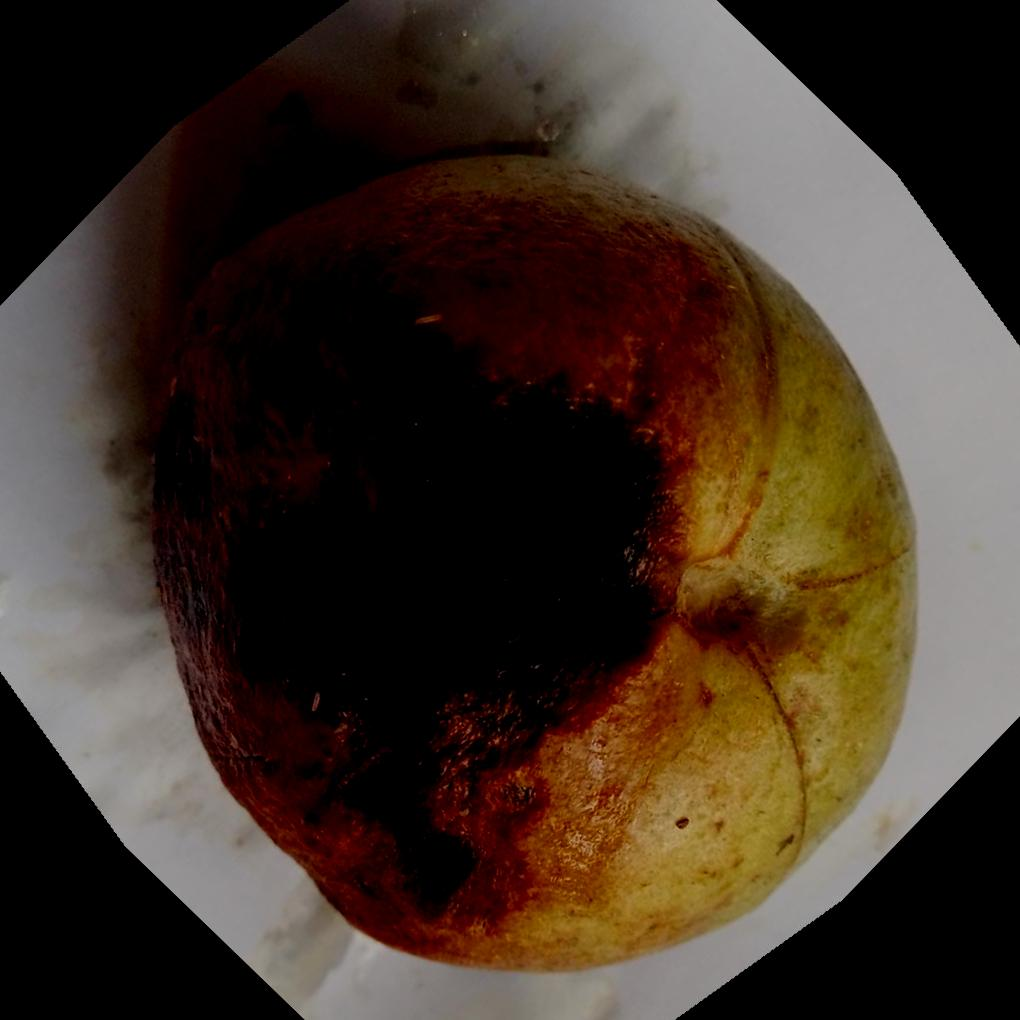FreshOrange: (145, 145, 916, 974)
